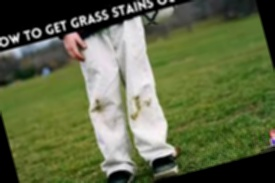earth: (93, 98, 105, 114), (132, 96, 143, 111), (130, 112, 140, 122), (144, 98, 153, 107)
